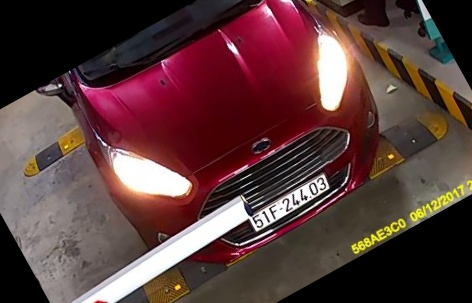plate: (250, 172, 342, 239)
